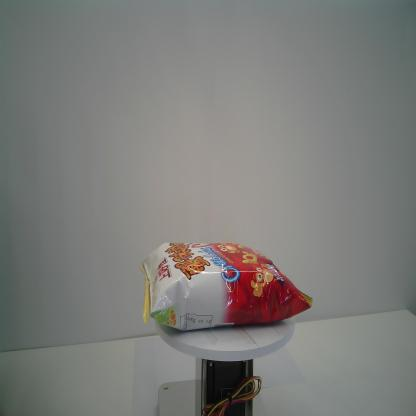Puffed Food: (138, 240, 313, 332)
